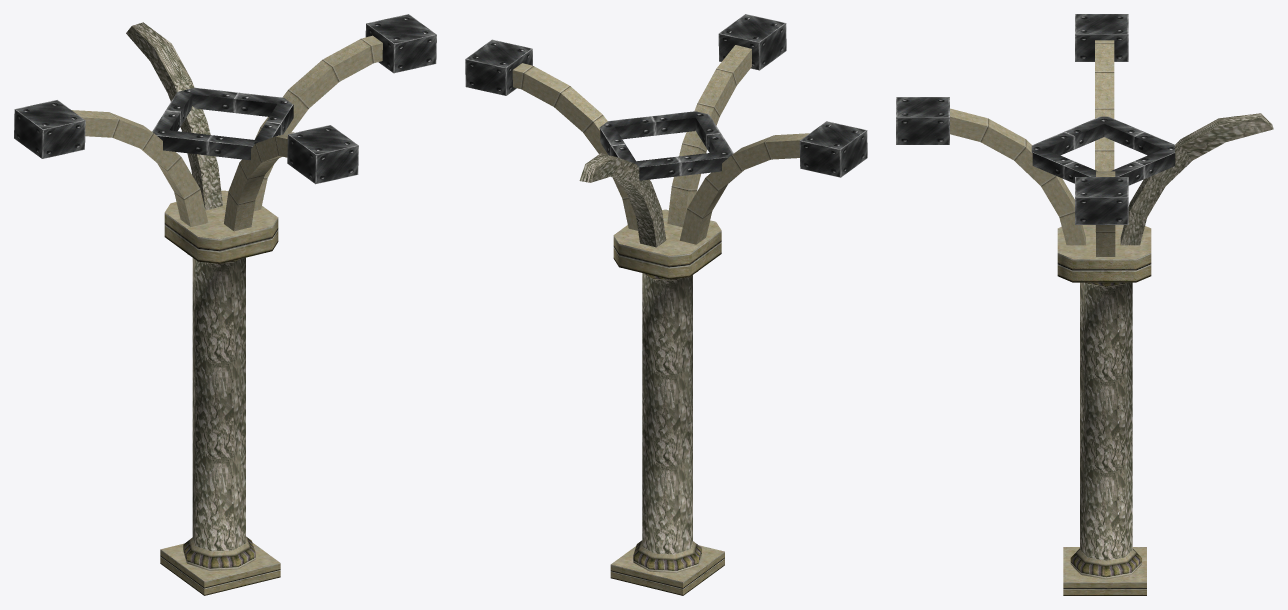
File: INST_SM_COLUMN_CHAIN.fbx
The picture shows the model from 3 angles, left to right: view 1: azimuth 30°, elevation 25°; view 2: azimuth 150°, elevation 25°; view 3: azimuth 270°, elevation 25°; orthographic projection. The views are drawn at different scales.
Visible parts, largest first — view 1: INST_SM_COLUMN_CHAIN; view 2: INST_SM_COLUMN_CHAIN; view 3: INST_SM_COLUMN_CHAIN.
Boxes of the visible parts, x1=… form: INST_SM_COLUMN_CHAIN: x1=14, y1=14, x2=436, y2=595; INST_SM_COLUMN_CHAIN: x1=465, y1=14, x2=867, y2=595; INST_SM_COLUMN_CHAIN: x1=896, y1=14, x2=1273, y2=595.
Bounding box in the file's own units: 57039 × 68989 × 49763.
Materials: 6 (6 with a texture image).
